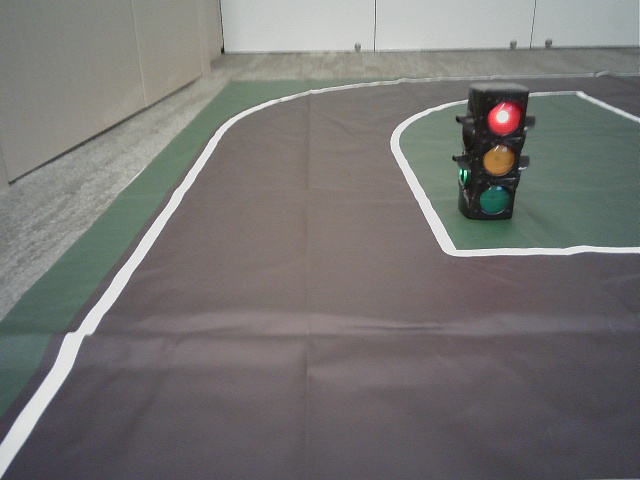red: (477, 101, 519, 215)
